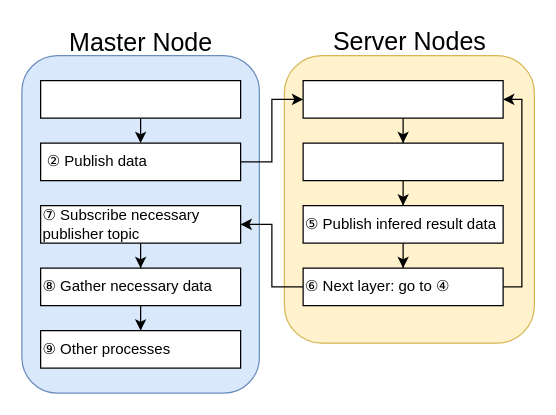
The diagram is 556 pixels wide and 415 high, and some of its shapes have lost their labels. The box of each missing label's shape, as (x1, y1, x2, y2) in pixels:
① Load dataset: (39, 79, 241, 118)
③ Wait data from privious layer: (302, 79, 503, 118)
④ Train layer: (302, 142, 503, 181)
